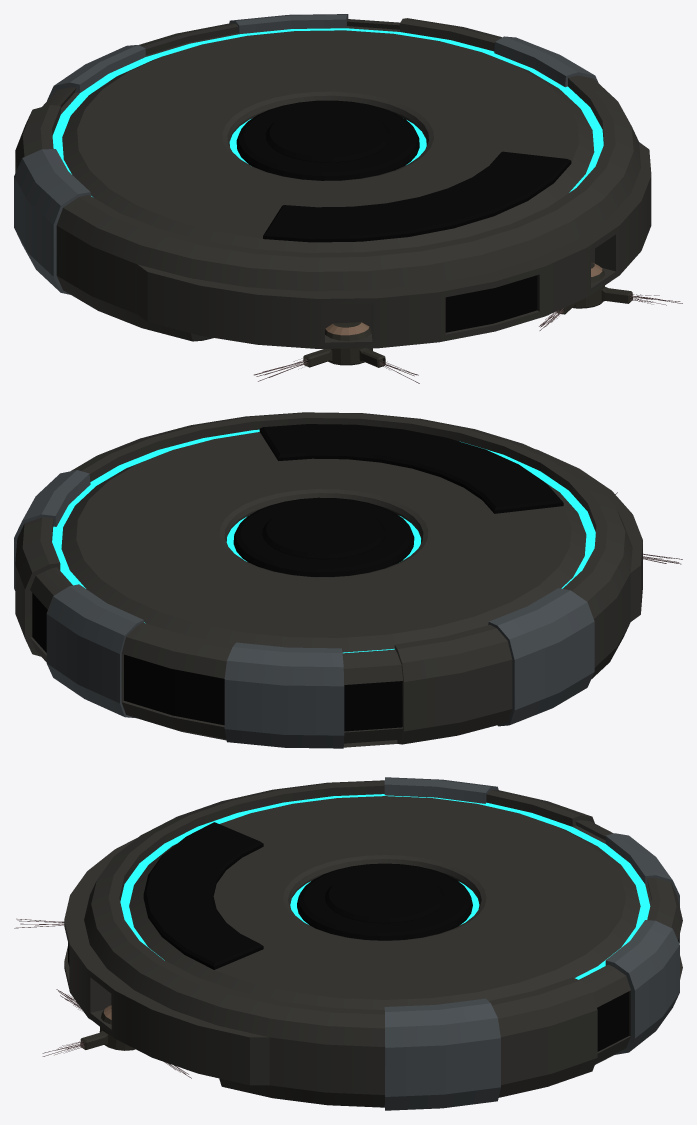
File: Roomba.fbx
3 renders of one model, top to bottom at view 1: azimuth 30°, elevation 25°; view 2: azimuth 150°, elevation 25°; view 3: azimuth 270°, elevation 25°, orthographic. The views are drawn at different scales.
Parts seen in each view (by area): view 1: Body, R_Brush, L_Brush; view 2: Body; view 3: Body, L_Brush.
Part boxes in pixels (<box>): Body: <box>14,14,651,348</box>; R_Brush: <box>254,322,419,383</box>; L_Brush: <box>539,262,682,330</box>; Body: <box>14,412,642,748</box>; Body: <box>64,777,682,1110</box>; L_Brush: <box>42,989,191,1078</box>.
Size of the model in its own units: 202 by 42.74 by 222.
